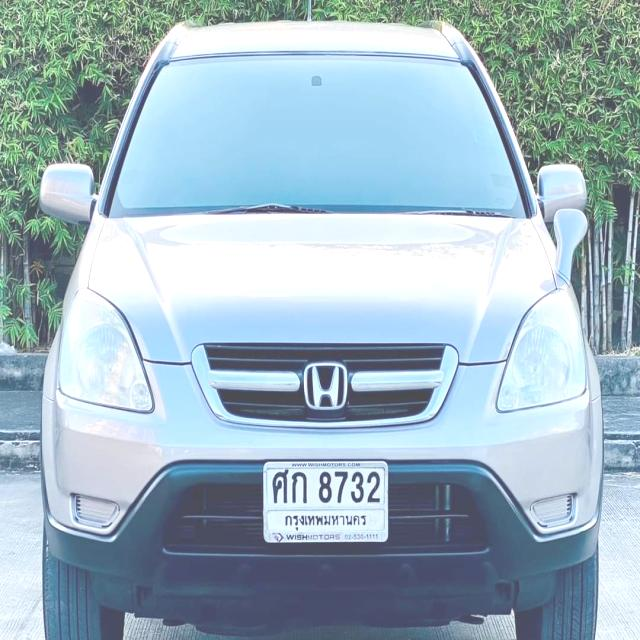license_plate: (265, 460, 388, 542)
